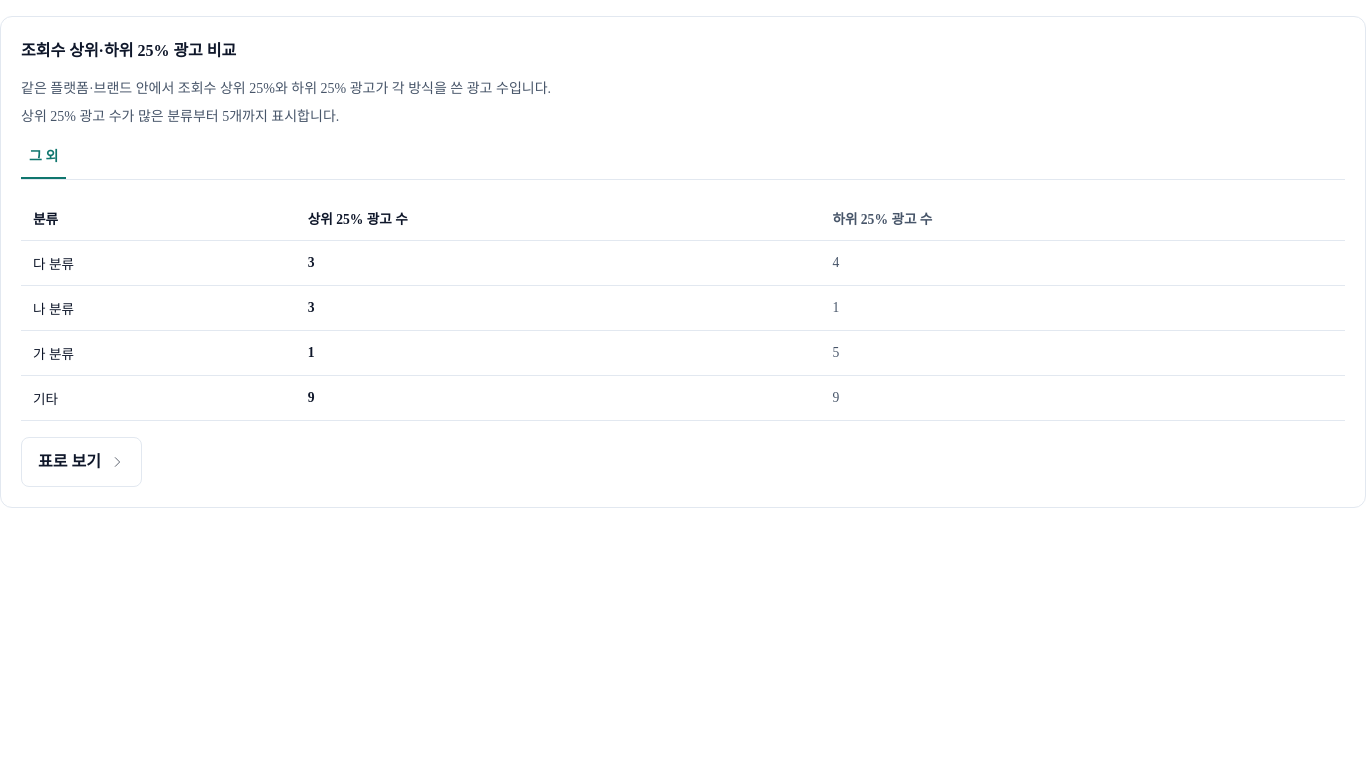
it: orders and emphasizes comparison columns and rows in verification without changing text or input
Click the button "표로 보기": {"x": 81, "y": 462} [21,437,142,487]
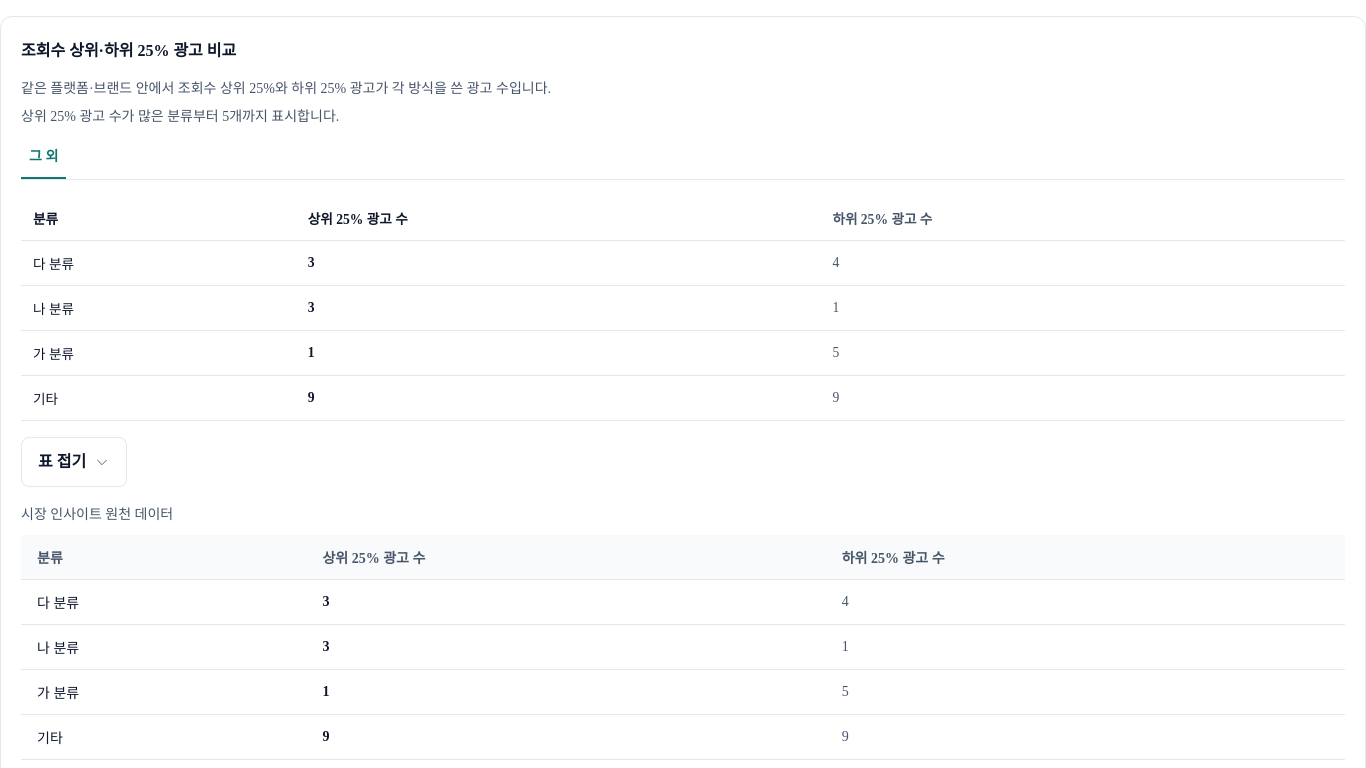
Expected: the text with class "gs-col-primary" below "시장 인사이트 원천 데이터" reads "상위 25% 광고 수", [322,551,425,566]
Expected: the 2nd text with class "gs-col-muted" reads "하위 25% 광고 수", [842,551,945,566]
Expected: the 3rd text with class "gs-col-primary" reads "3", [322,594,329,609]
